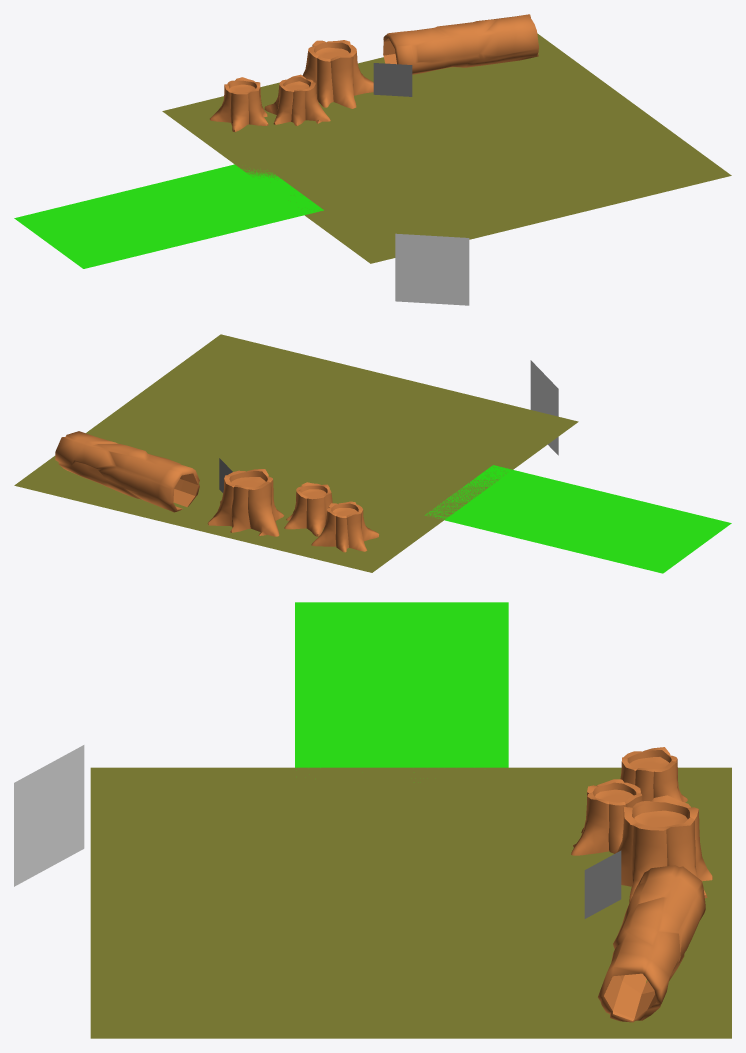
The model's file is Map01.fbx.
3 renders of one model, top to bottom at view 1: azimuth 30°, elevation 25°; view 2: azimuth 150°, elevation 25°; view 3: azimuth 270°, elevation 25°, orthographic. The views are drawn at different scales.
Visible parts, largest first — view 1: Plane001, Plane002, Object001, Plane004, wood, wood002, wood001, Plane005; view 2: Plane001, Plane002, Object001, wood, wood001, wood002, Plane004; view 3: Plane001, Plane002, Object001, Plane004, wood, wood002, wood001, Plane005.
Part boxes in pixels (bbox=[...]): Plane001: bbox=[162, 33, 731, 263]; Plane002: bbox=[14, 164, 323, 268]; Object001: bbox=[383, 14, 538, 74]; Plane004: bbox=[395, 233, 469, 305]; wood: bbox=[302, 40, 373, 108]; wood002: bbox=[264, 74, 330, 125]; wood001: bbox=[210, 77, 268, 131]; Plane005: bbox=[373, 63, 412, 96]; Plane001: bbox=[14, 334, 578, 572]; Plane002: bbox=[425, 465, 731, 573]; Object001: bbox=[55, 431, 199, 512]; wood: bbox=[207, 469, 284, 536]; wood001: bbox=[311, 501, 378, 552]; wood002: bbox=[284, 482, 332, 536]; Plane004: bbox=[530, 360, 558, 455]; Plane001: bbox=[90, 767, 731, 1038]; Plane002: bbox=[295, 602, 508, 768]; Object001: bbox=[598, 865, 705, 1022]; Plane004: bbox=[14, 745, 84, 886]; wood: bbox=[616, 795, 712, 902]; wood002: bbox=[571, 779, 642, 855]; wood001: bbox=[620, 747, 687, 802]; Plane005: bbox=[584, 850, 621, 918].
Size of the model in its own units: 483 by 68.15 by 336.
